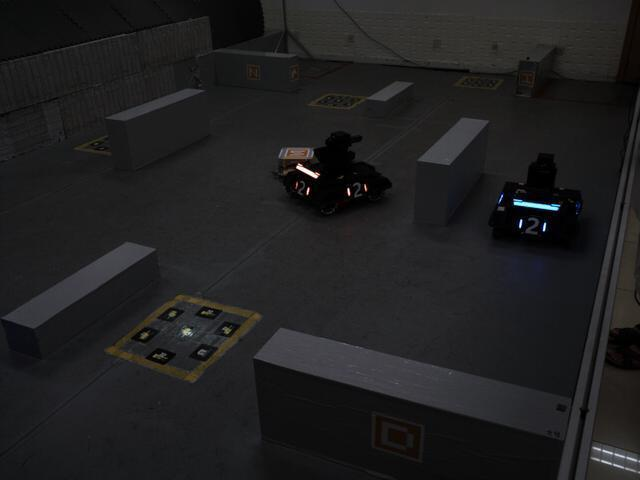armor: (515, 212, 552, 240), (342, 177, 372, 202), (288, 175, 312, 201)
